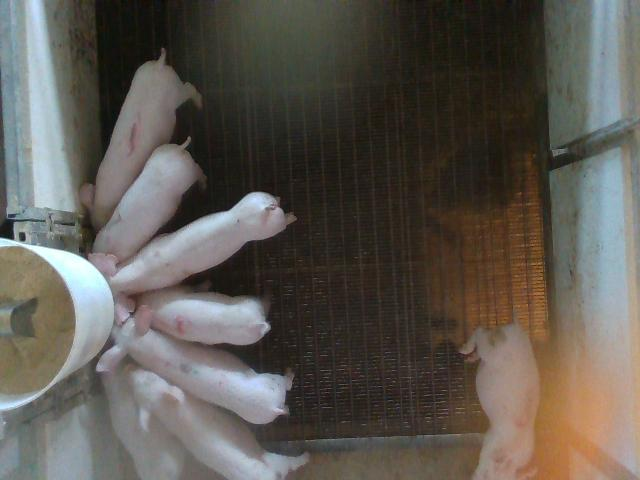pig-1: (81, 49, 202, 231)
pig-3: (459, 314, 540, 478)
pig-4: (138, 285, 270, 345)
